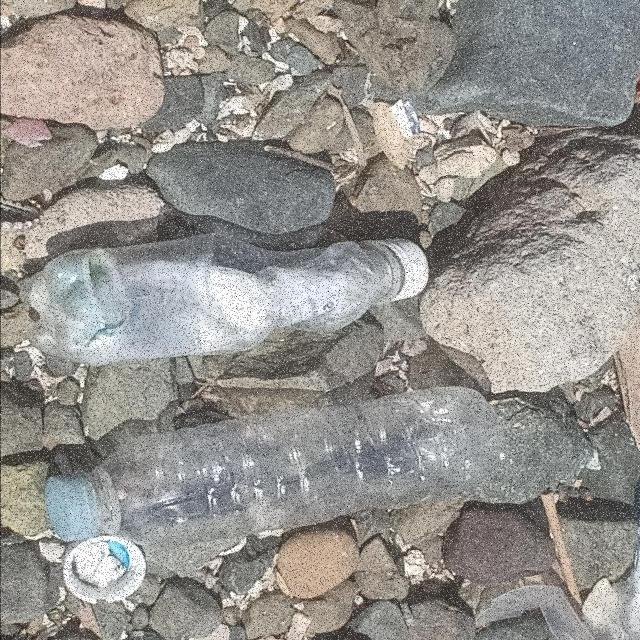plastic_waste: (43, 386, 509, 552), (25, 231, 431, 370), (62, 536, 148, 607)
